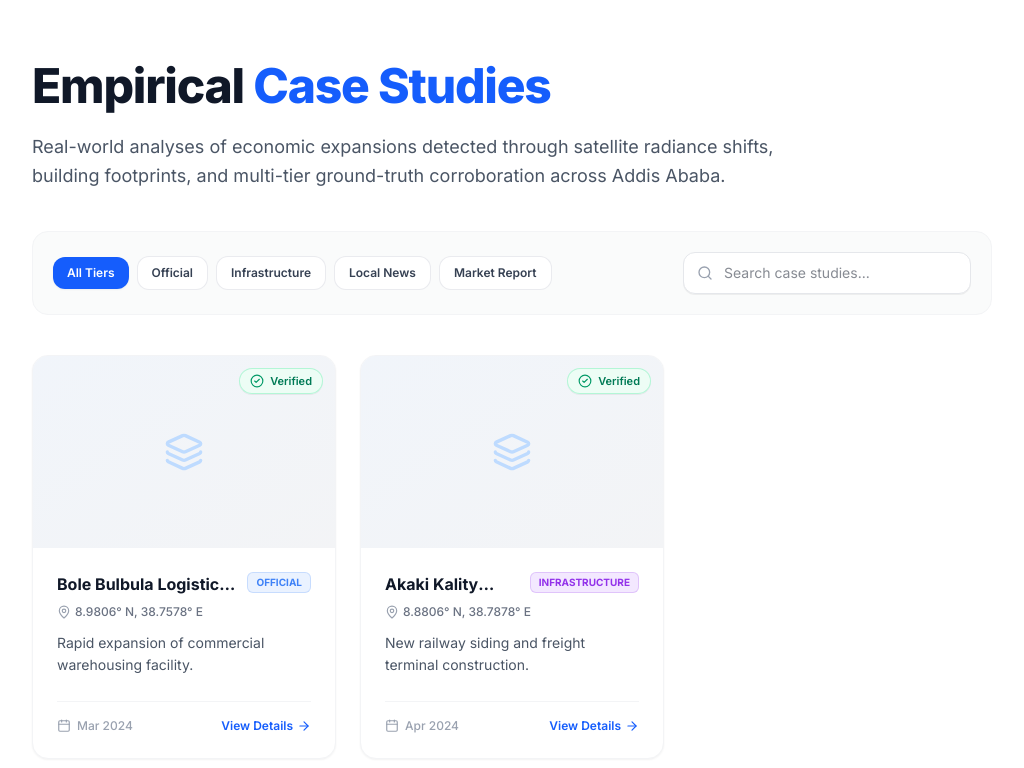
it: CaseStudiesListPage › renders case study cards and filters by tier and search query
The image size is (1024, 768).
Expected: the heading "Bole Bulbula Logistics Hub" is shown, [57, 572, 239, 596]
Expected: the heading "Akaki Kality Industrial Corridor" is shown, [385, 574, 478, 618]
Filter by tier: click INFRASTRUCTURE
Click the button "Infrastructure" at (271, 272), box [216, 256, 326, 290]
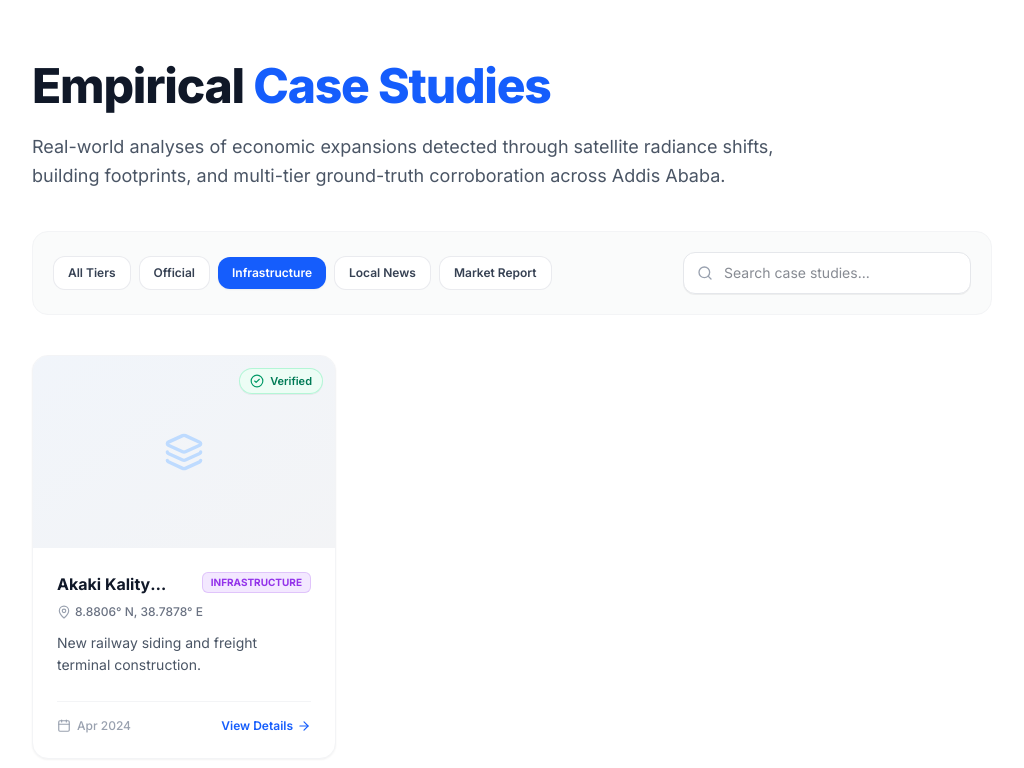
Expected: the heading "Akaki Kality Industrial Corridor" is shown, [57, 574, 150, 618]
Now the heading "Bole Bulbula Logistics Hub" is gone
Reset to All Tiers
Click the button "All Tiers" at (92, 272), box [53, 256, 131, 290]
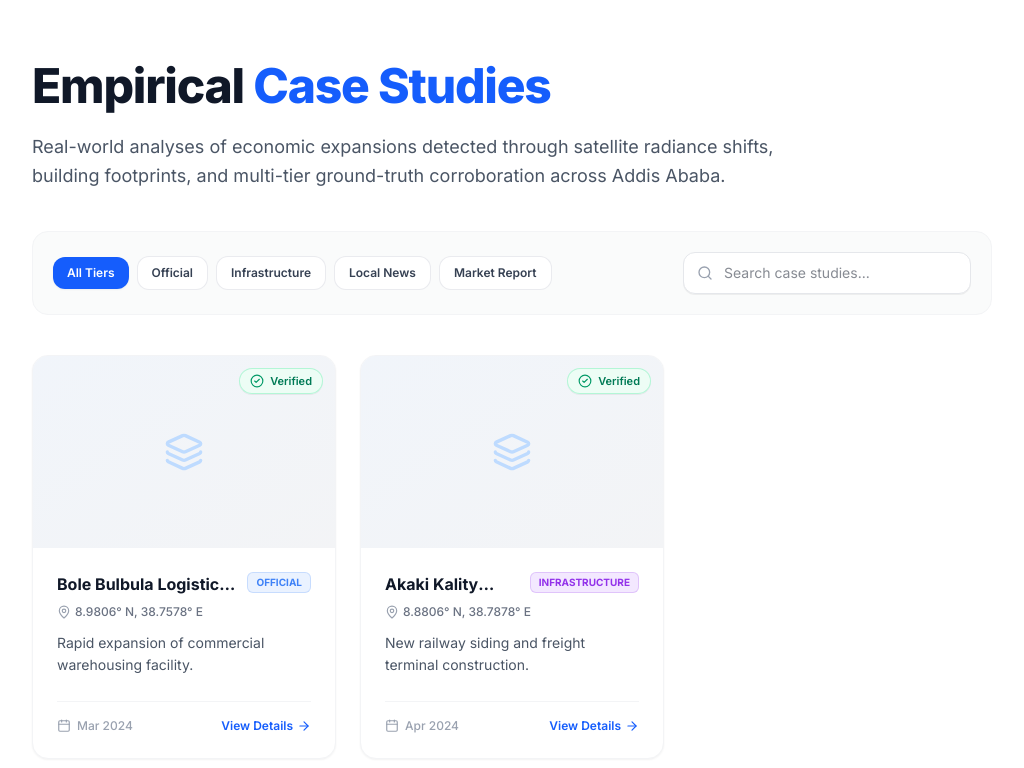
Now the heading "Bole Bulbula Logistics Hub" is shown, box [57, 572, 239, 596]
Search query
Type "Bole" into the field with placeholder "Search case studies..." at (827, 272), box [683, 252, 971, 294]
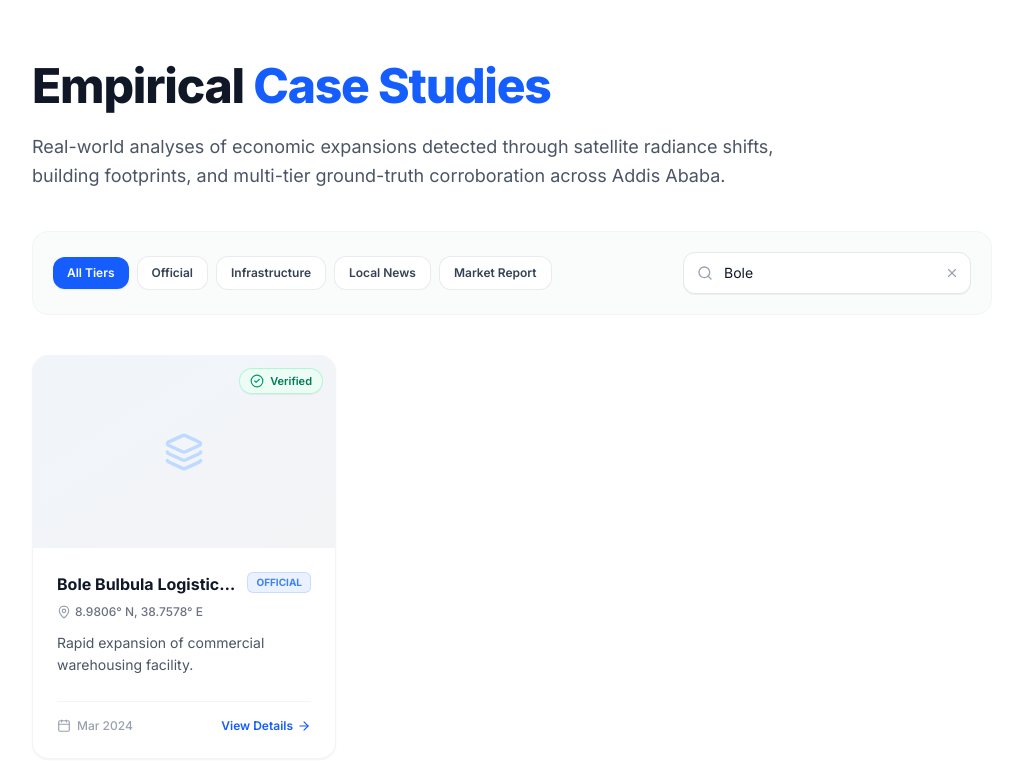
Now the heading "Bole Bulbula Logistics Hub" is shown, box [57, 572, 239, 596]
Now the heading "Akaki Kality Industrial Corridor" is gone
